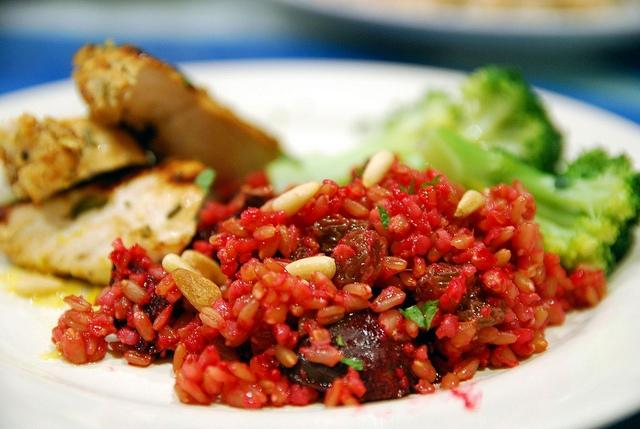broccoli: (417, 124, 640, 282), (268, 89, 462, 191), (458, 65, 562, 175)
